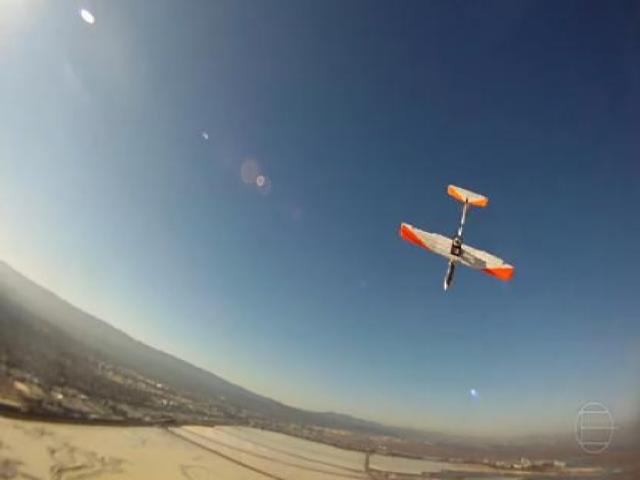uav: (393, 177, 516, 306)
